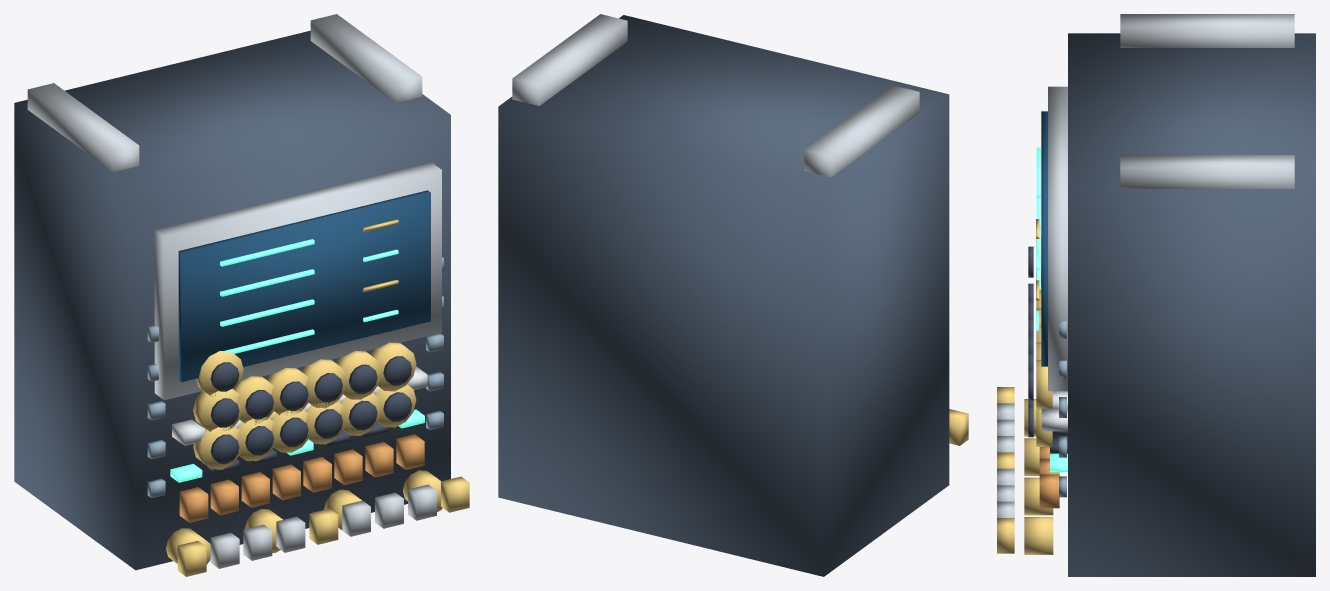
Rendered from 70_L85_DockingSafetyPLC.glb.
3 views of the same model, side by side, from view 1: azimuth 30°, elevation 25°; view 2: azimuth 150°, elevation 25°; view 3: azimuth 270°, elevation 25° (orthographic). The views are drawn at different scales.
Parts seen in each view (by area): view 1: L85_DockingSafetyPLC, L85_DockingSafetyPLC_Part_0022, L85_DockingSafetyPLC_Part_0028, L85_DockingSafetyPLC_Part_0030, L85_DockingSafetyPLC_Part_0010, L85_DockingSafetyPLC_Part_0032, L85_DockingSafetyPLC_Part_0034, L85_DockingSafetyPLC_Part_0026, L85_DockingSafetyPLC_Part_0024, L85_DockingSafetyPLC_Part_0016, L85_DockingSafetyPLC_Part_0018, L85_DockingSafetyPLC_Part_0012 (+15 smaller); view 2: L85_DockingSafetyPLC; view 3: L85_DockingSafetyPLC, L85_DockingSafetyPLC_Part_0032.
Part boxes in pixels (<box>): L85_DockingSafetyPLC: <box>14,14,469,576</box>; L85_DockingSafetyPLC_Part_0022: <box>193,389,243,431</box>; L85_DockingSafetyPLC_Part_0028: <box>301,359,346,408</box>; L85_DockingSafetyPLC_Part_0030: <box>336,351,381,399</box>; L85_DockingSafetyPLC_Part_0010: <box>193,425,242,469</box>; L85_DockingSafetyPLC_Part_0032: <box>370,342,416,391</box>; L85_DockingSafetyPLC_Part_0034: <box>196,351,243,396</box>; L85_DockingSafetyPLC_Part_0026: <box>266,367,308,415</box>; L85_DockingSafetyPLC_Part_0024: <box>234,376,275,424</box>; L85_DockingSafetyPLC_Part_0016: <box>305,400,346,444</box>; L85_DockingSafetyPLC_Part_0018: <box>340,393,381,435</box>; L85_DockingSafetyPLC_Part_0012: <box>237,417,273,461</box>; L85_DockingSafetyPLC: <box>498,14,968,576</box>; L85_DockingSafetyPLC: <box>997,14,1315,576</box>; L85_DockingSafetyPLC_Part_0032: <box>1036,360,1052,409</box>.
Size of the model in its own units: 0.9588 by 1.16 by 0.8221.
